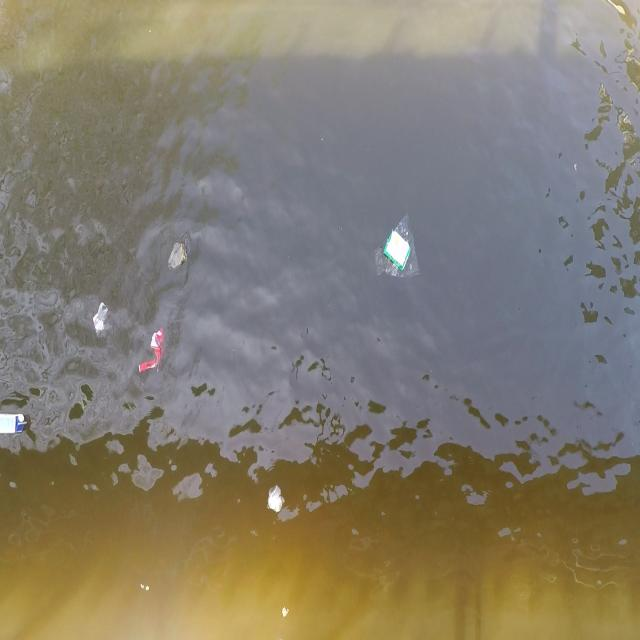Autre plastique: (382, 225, 413, 268)
Non plastique: (0, 404, 33, 441)
Sac plastique: (136, 325, 170, 383), (161, 237, 193, 279), (85, 295, 114, 341), (261, 484, 292, 520)
